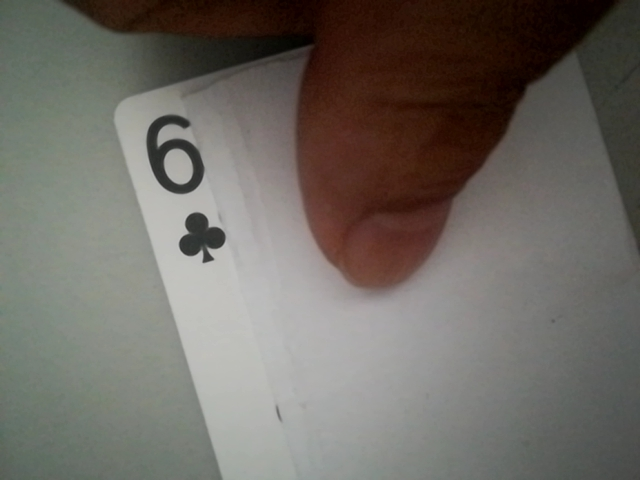mh 6: (136, 107, 236, 267)
